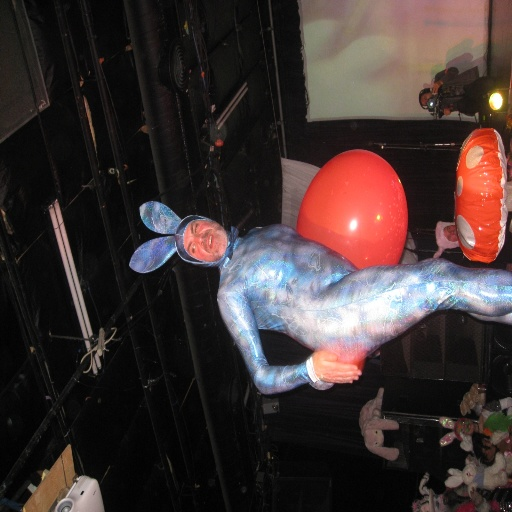hand: (309, 341, 365, 395), (469, 485, 483, 506), (431, 81, 440, 95), (442, 108, 450, 116)
